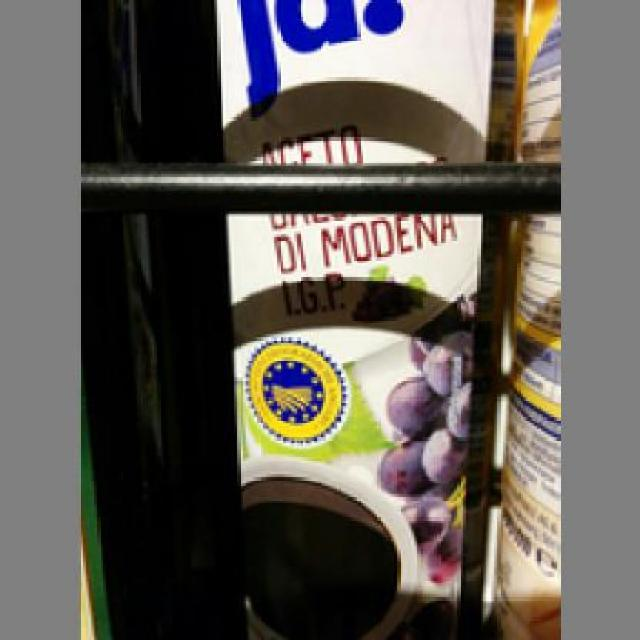Vinegar: (214, 0, 492, 637)
